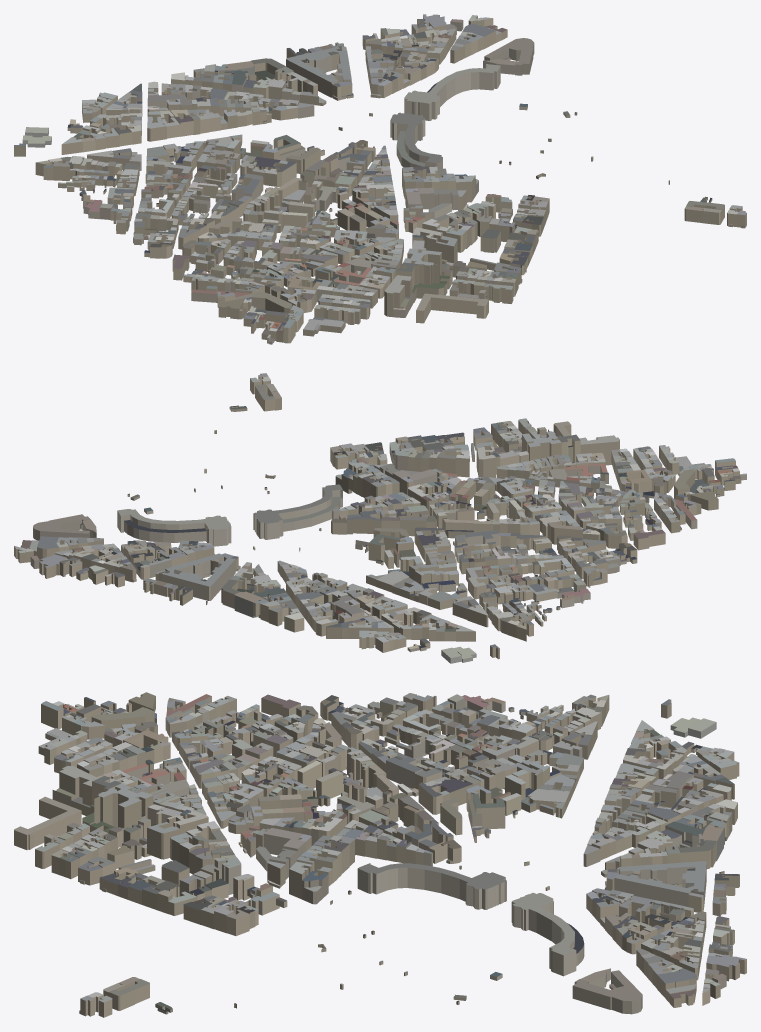
3 renders of one model, top to bottom at view 1: azimuth 30°, elevation 25°; view 2: azimuth 150°, elevation 25°; view 3: azimuth 270°, elevation 25°, orthographic. The views are drawn at different scales.
Parts seen in each view (by area): view 1: tuile; view 2: tuile; view 3: tuile.
Part boxes in pixels (bbox=[...]): tuile: bbox=[14, 14, 746, 344]; tuile: bbox=[14, 373, 746, 663]; tuile: bbox=[14, 692, 746, 1017].
Bounding box in the file's own units: 1055 × 69.35 × 1074.
